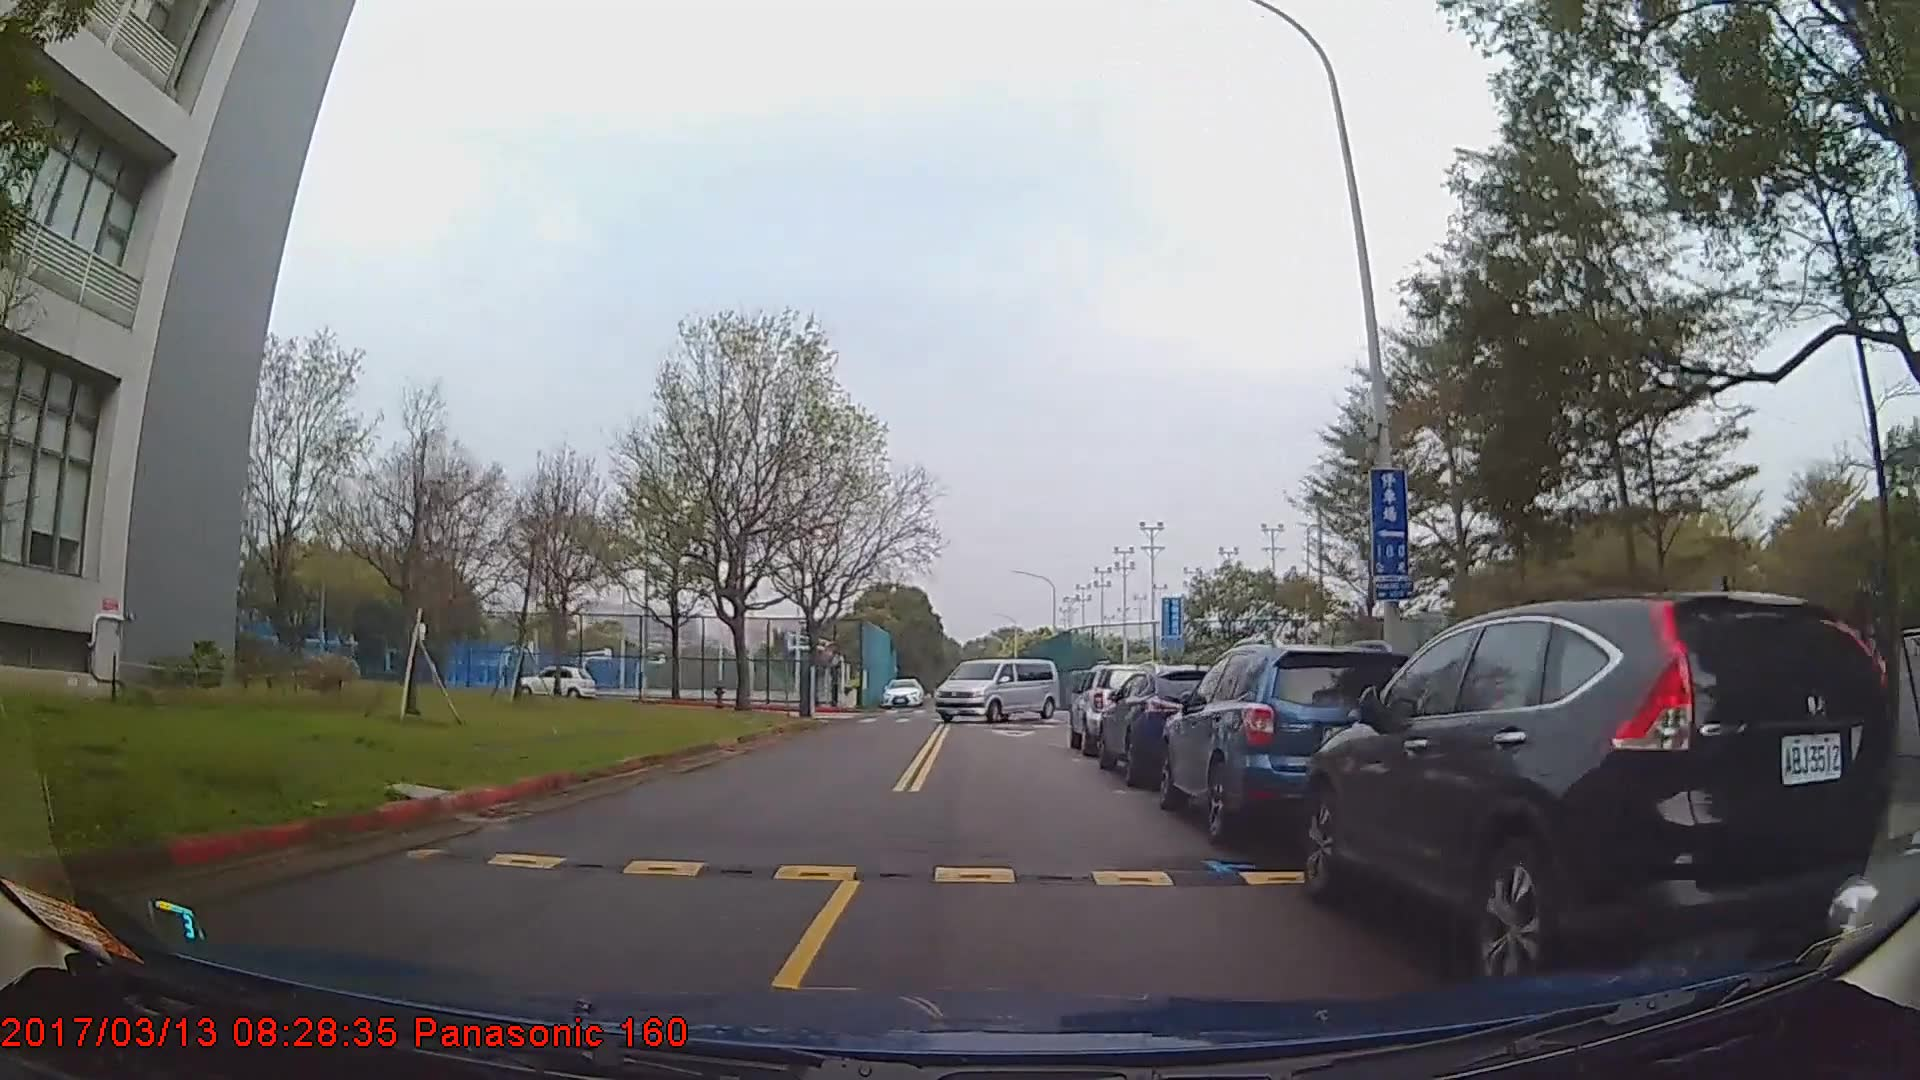vehicle: (1298, 589, 1892, 998), (1155, 644, 1418, 843), (1097, 663, 1240, 786), (934, 655, 1062, 727), (1068, 663, 1156, 756), (520, 663, 595, 702), (880, 676, 923, 708)
